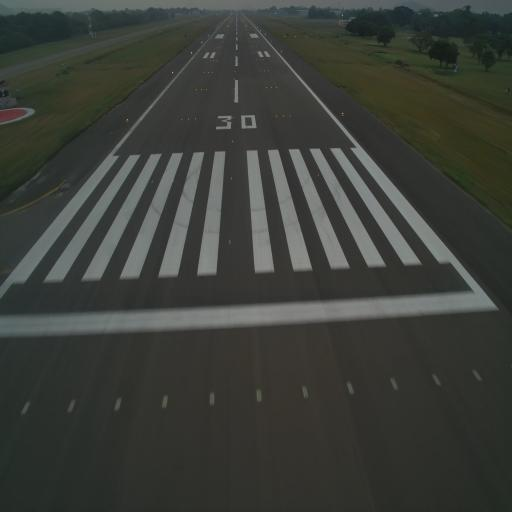off: (64, 397, 78, 415)
on: (205, 388, 220, 409), (344, 378, 356, 403), (112, 396, 123, 416), (391, 376, 401, 396), (254, 384, 263, 404), (302, 383, 311, 402), (161, 388, 168, 411), (230, 174, 234, 182), (316, 172, 321, 178), (228, 238, 232, 245), (171, 177, 175, 184), (307, 172, 310, 180), (297, 173, 300, 180), (161, 178, 164, 184), (151, 179, 153, 186)
